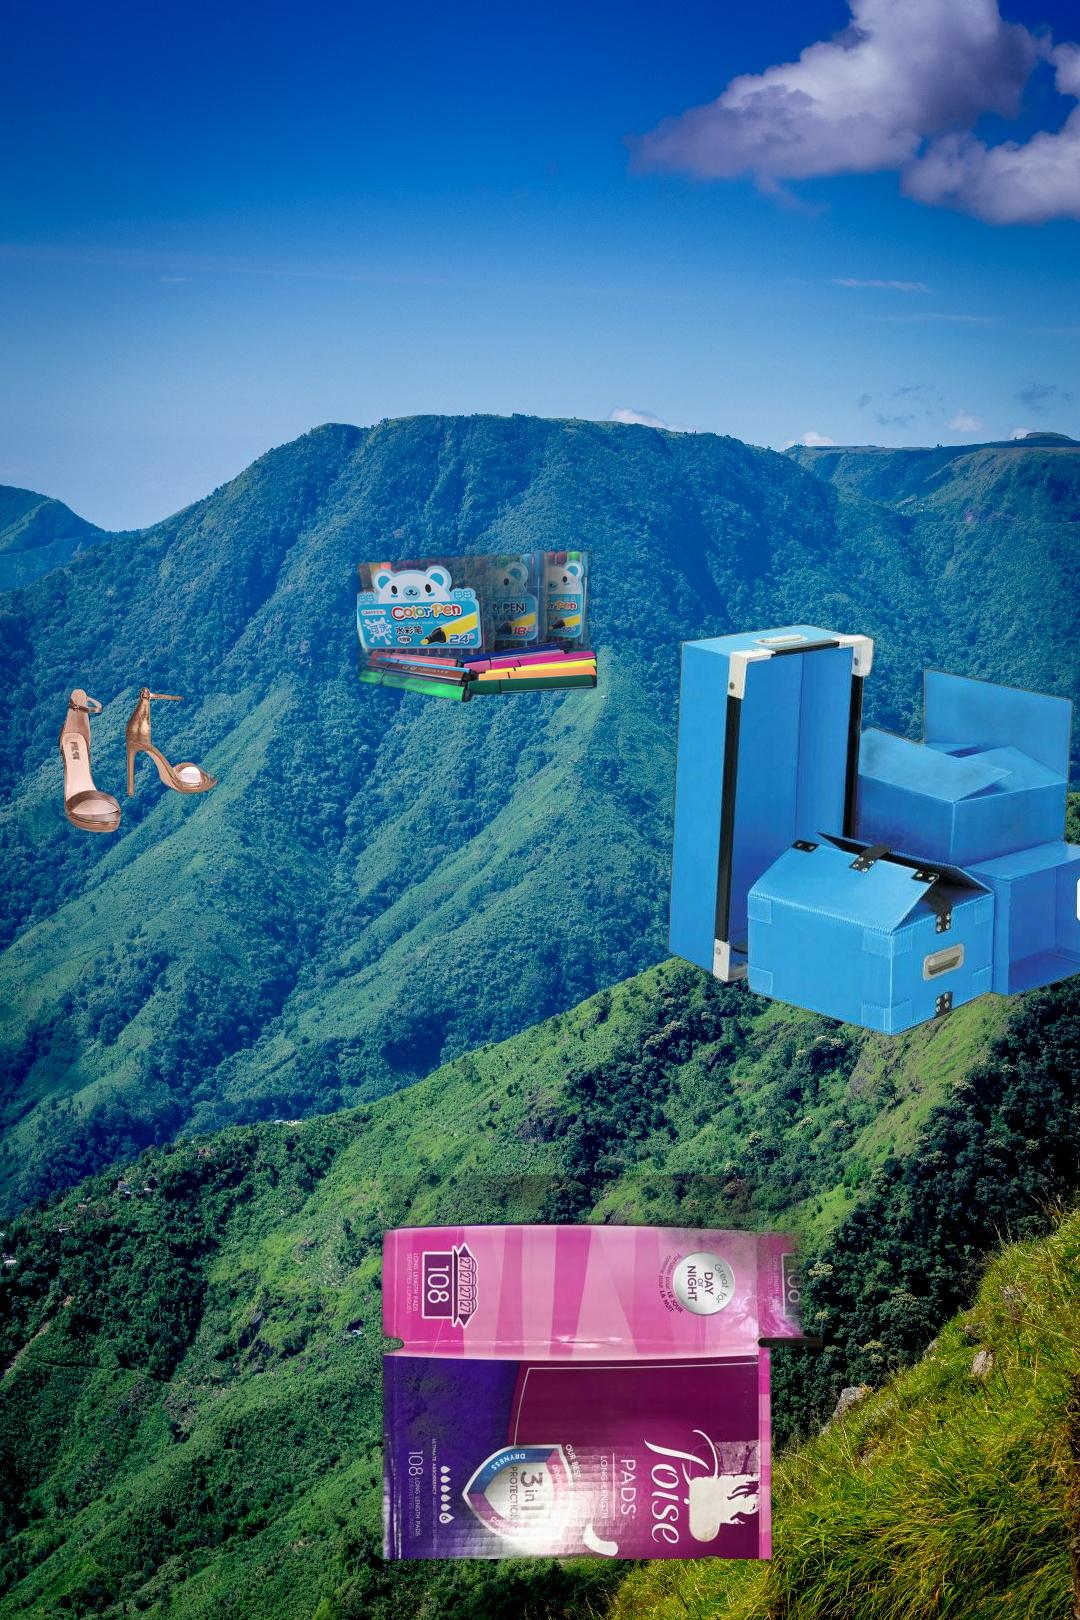penholder: (357, 526, 597, 705)
shoes: (55, 683, 221, 835)
trashbox-cardboard: (311, 1175, 823, 1559), (663, 620, 1080, 1041)
